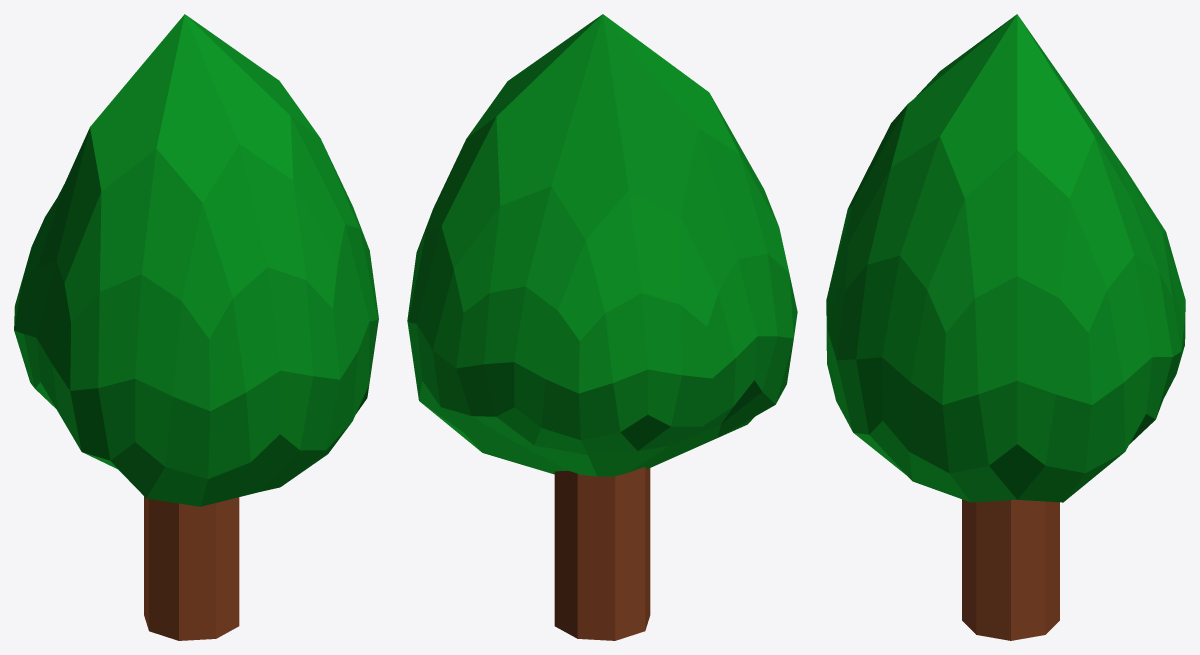
The model's file is tree_blend.glb.
3 renders of one model, left to right at view 1: azimuth 30°, elevation 25°; view 2: azimuth 150°, elevation 25°; view 3: azimuth 270°, elevation 25°, orthographic.
Visible parts, largest first — view 1: Cylinder; view 2: Cylinder; view 3: Cylinder.
Boxes of the visible parts, x1,y1,x2,y2 form: Cylinder: (14, 14, 378, 640); Cylinder: (407, 14, 797, 640); Cylinder: (826, 14, 1185, 640).
Size of what is drawn, in the model's own units: 2.39 by 4.33 by 2.33.
